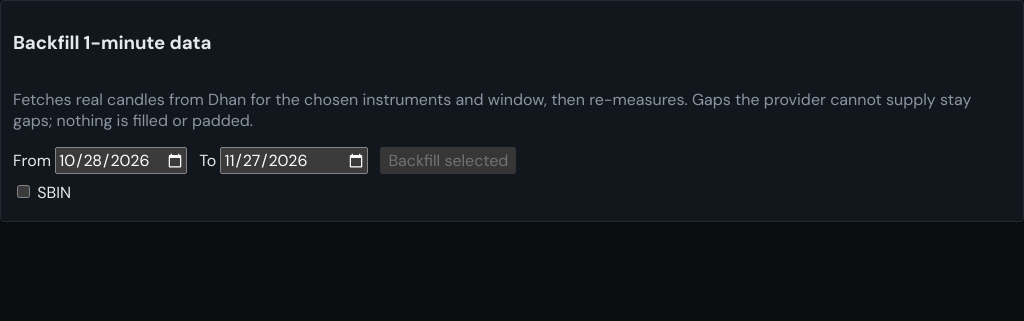
BackfillPanel › shows before and after missing share, the excluded provider window, and the recorded reason for unrecoverable ranges
Click the checkbox labelled "SBIN". click: (24,192)
box: [17,185,30,198]
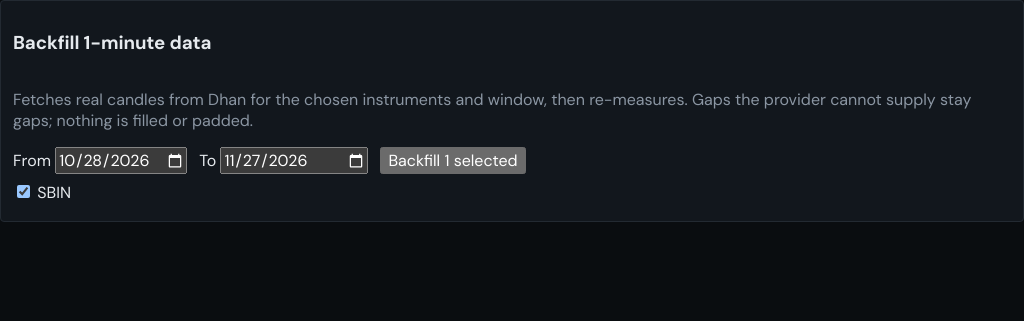
Click the button "Backfill 1 selected". click: (453,161)
box: [380,147,526,174]
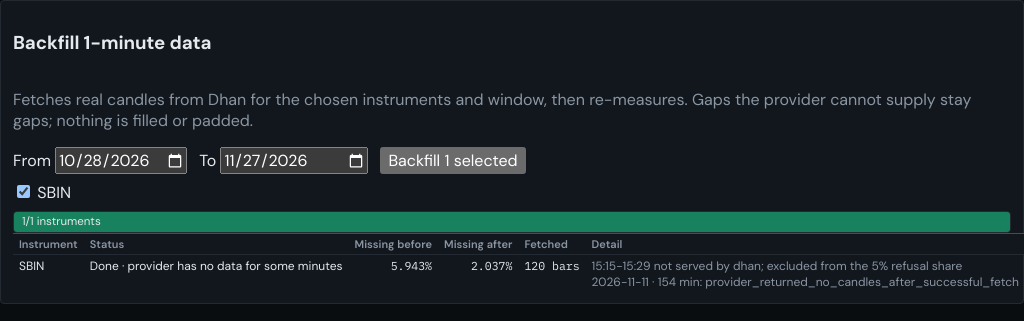
Expected: the text "5.943%" is shown, [348,255,438,293]
Expected: the text "2.037%" is shown, [438,255,518,293]
Expected: the text "15:15-15:29 not served by dhan; excluded from the 5% refusal share" is shown, [592,258,1019,274]
